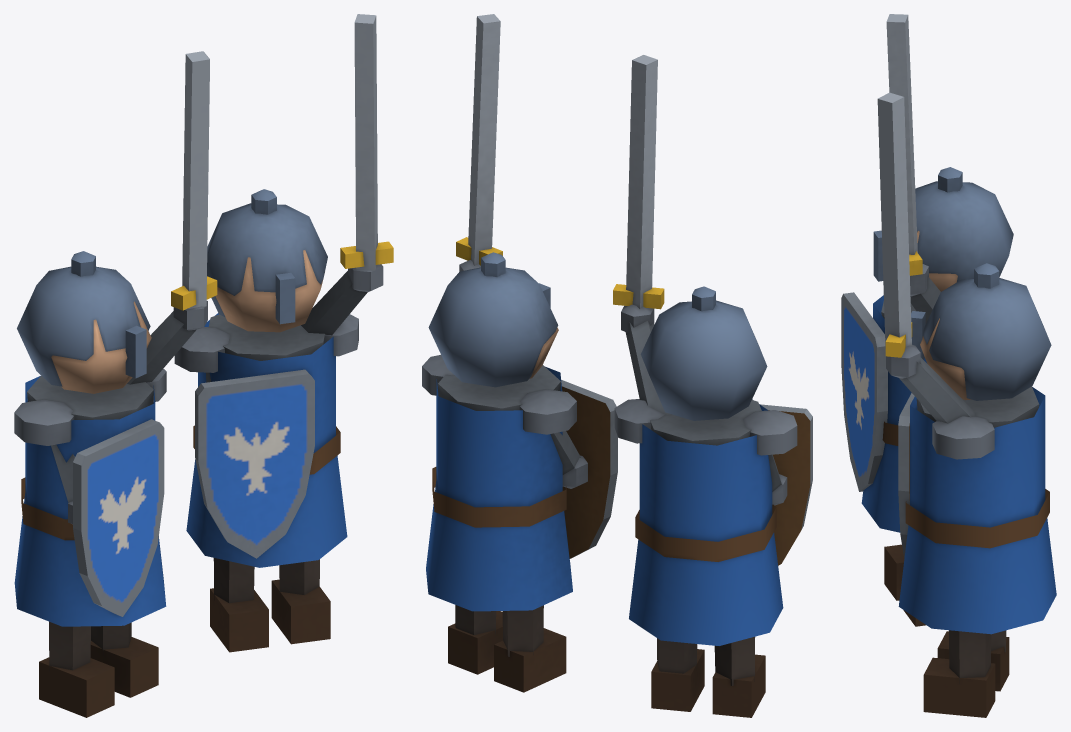
The model's file is sentry_dl3_blue.glb.
3 views of the same model, side by side, from view 1: azimuth 30°, elevation 25°; view 2: azimuth 150°, elevation 25°; view 3: azimuth 270°, elevation 25° (orthographic). The views are drawn at different scales.
Parts seen in each view (by area): view 1: sentry_dl3_blue; view 2: sentry_dl3_blue; view 3: sentry_dl3_blue.
Boxes of the visible parts, bbox=[...] form: sentry_dl3_blue: bbox=[14, 14, 393, 717]; sentry_dl3_blue: bbox=[422, 14, 812, 717]; sentry_dl3_blue: bbox=[841, 14, 1056, 717].
Bounding box in the file's own units: 0.3402 × 0.5703 × 0.1787.
1 material, 1 textured.
